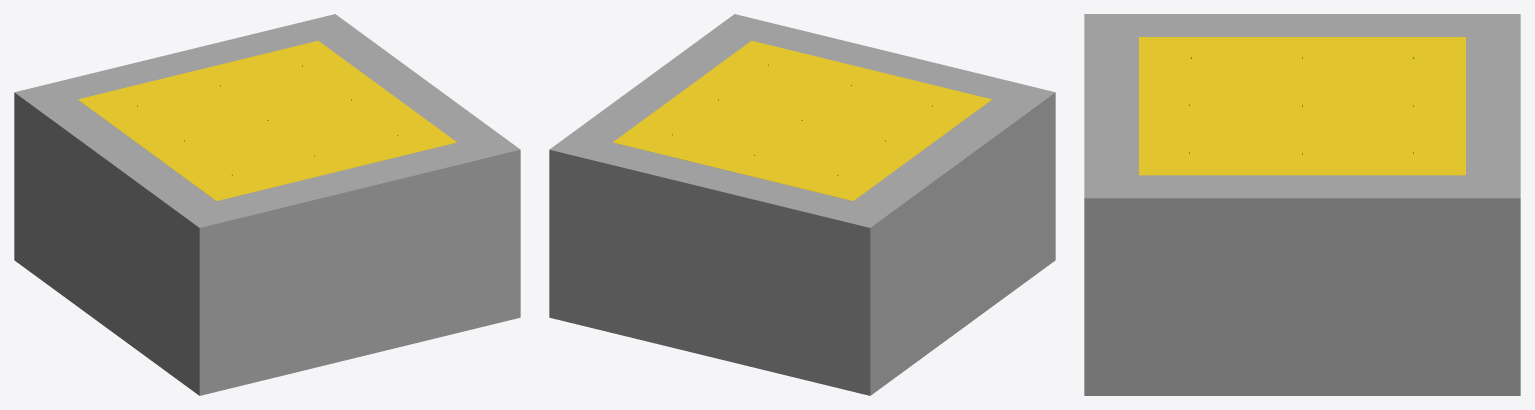
File: tooths.fbx
3 views of the same model, side by side, from view 1: azimuth 30°, elevation 25°; view 2: azimuth 150°, elevation 25°; view 3: azimuth 270°, elevation 25° (orthographic). The views are drawn at different scales.
Visible parts, largest first — view 1: Box, Sand; view 2: Box, Sand; view 3: Box, Sand.
Boxes of the visible parts, left/top/right/bottom form: Box: left=14, top=14, right=520, bottom=395; Sand: left=78, top=40, right=456, bottom=201; Box: left=549, top=14, right=1055, bottom=395; Sand: left=613, top=40, right=991, bottom=201; Box: left=1084, top=14, right=1520, bottom=395; Sand: left=1139, top=37, right=1465, bottom=175.
Bounding box in the file's own units: 2 × 1.01 × 2.
